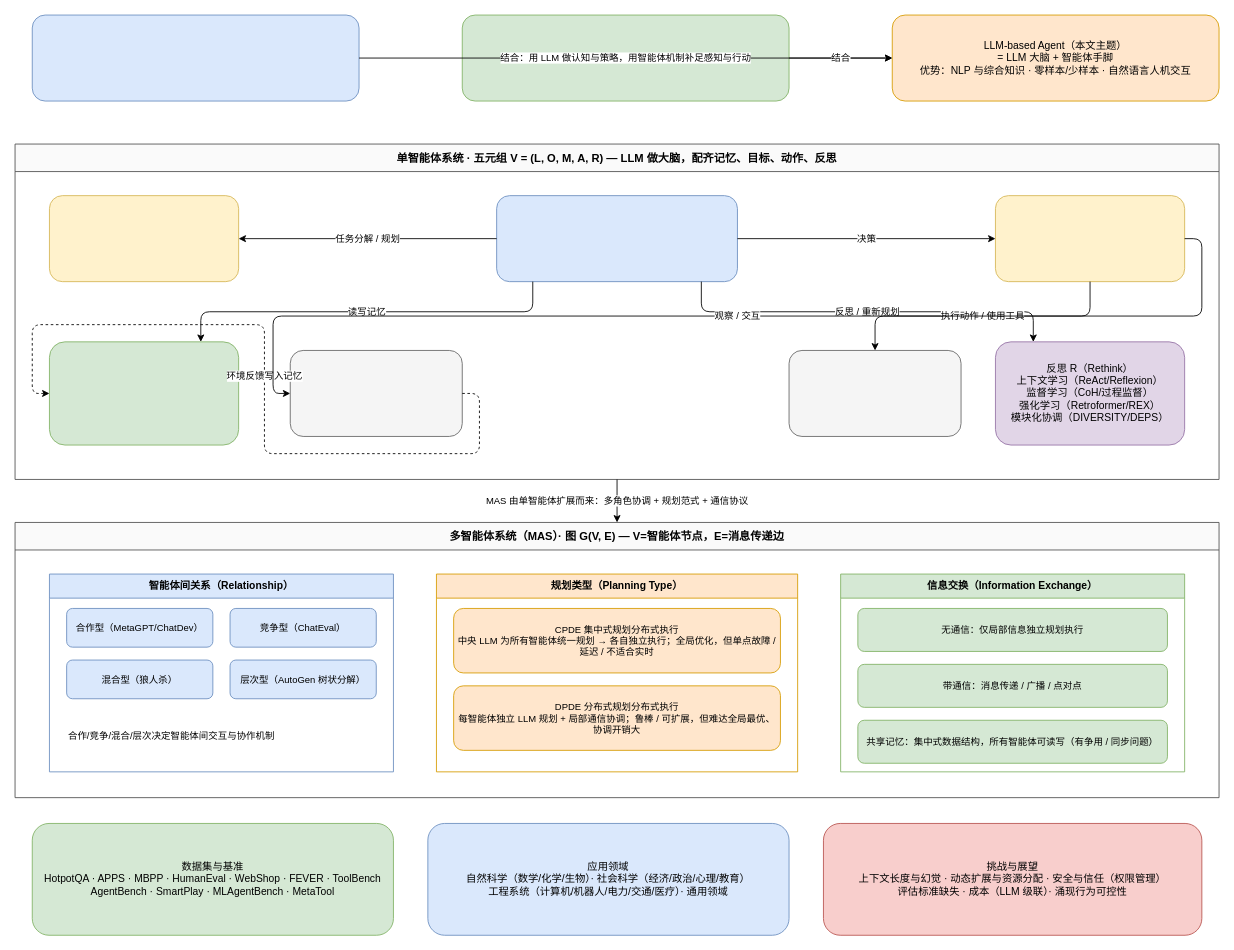
This 1234x950 diagram has some shape labels left out. The shapes that lost their labels are listed below. From the top down, each one's centre as x and y in pixels, then its label:
At (x=195, y=57): "纯 LLM（只说不做的理论家） 局限：上下文长度受限 · 知识更新周期长 · 无法直接使用外部工具（计算器 / SQL / 解释器）".
At (x=625, y=57): "智能体机制（Agent） 自主性 · 感知环境 · 决策 · 行动 学习型：RL-based / LLM-based".
At (x=144, y=238): "目标 O（Objective） 必须达到的最终状态 · 驱动任务分解与规划".
At (x=616, y=238): "LLM L（大脑核心） 基于观察、记忆与奖励制定策略并决策 · 无需额外训练 · 推理参数（如 temperature）可动态调整".
At (x=1090, y=238): "动作 A（Action） 工具使用（API/计算器/解释器） 工具规划（ChatCoT/TPTU/ToolLLM） 工具创建（Cai 等 / CRAFT）".
At (x=144, y=393): "记忆 M（Memory） 短期记忆（上下文窗口） 长期记忆（知识图谱/向量库） 记忆检索（RAG 等）".
At (x=375, y=393): "环境（Environment） 计算机 / 游戏 / 代码 真实世界 / 模拟".
At (x=874, y=393): "工具（Tool） 计算器 · 代码解释器 机械臂 · 搜索引擎…".
